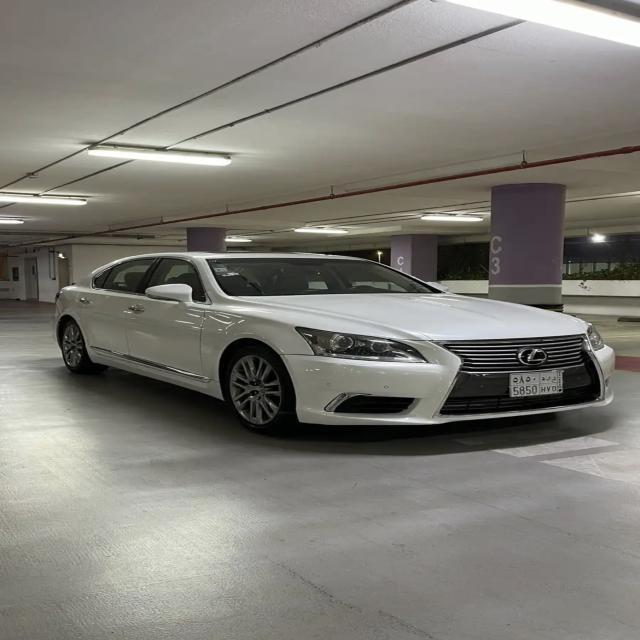license_plate: (509, 372, 564, 397)
